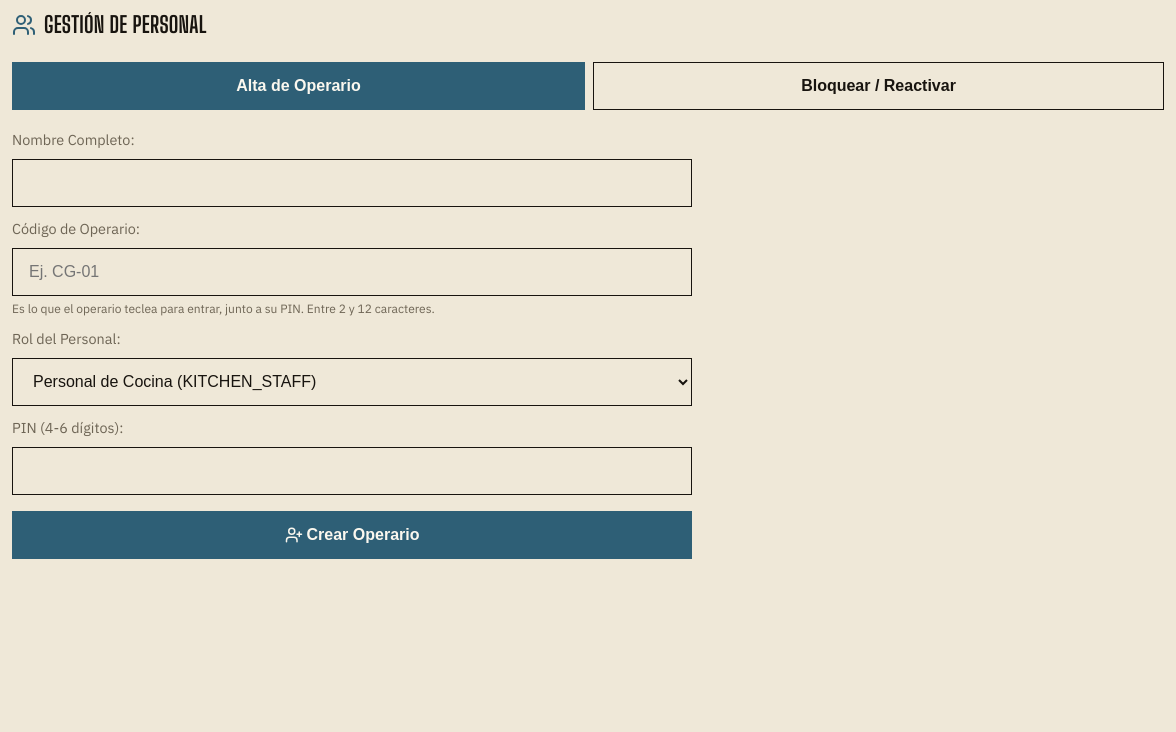
Test: TK-049-FE: UserManagementPanel Component Suite › lista los operarios reales y bloquea uno desde la pestaña Bloquear / Reactivar (TK-056)
The width and height of the screenshot is (1176, 732).
Click the button "Bloquear / Reactivar": coordinates (878, 86) [593, 62, 1164, 110]
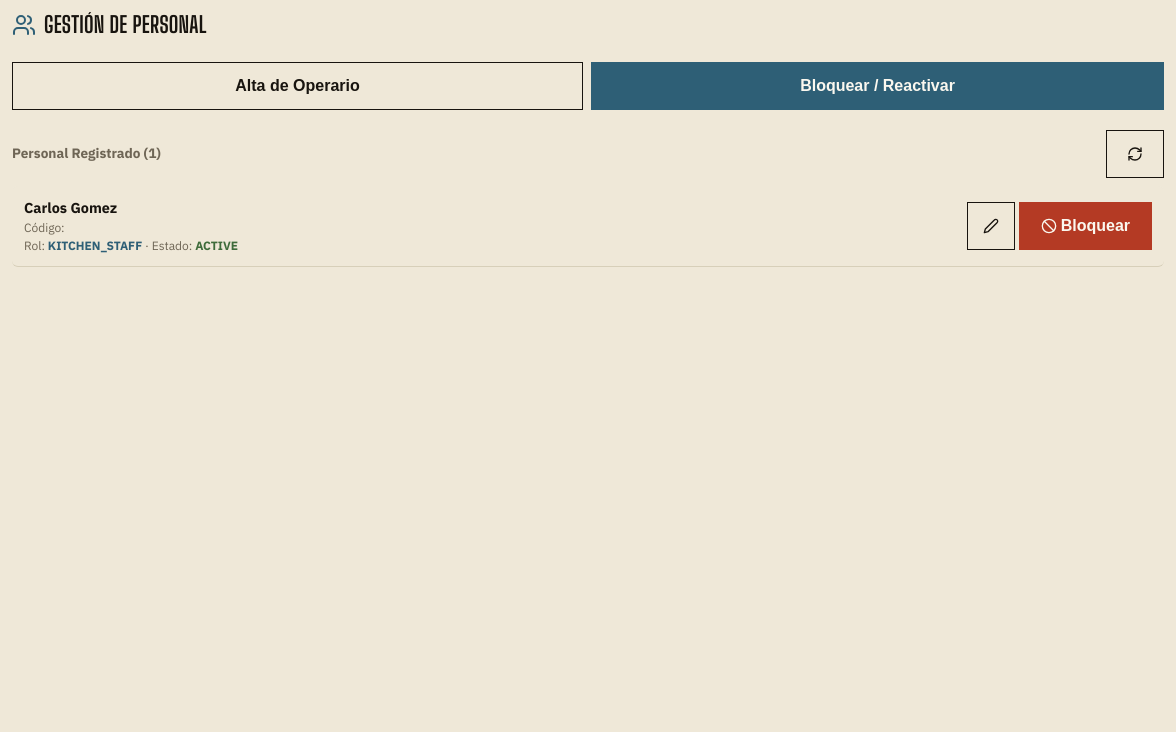
Check: the text "Carlos Gomez" is shown, box [24, 198, 117, 217]
Click the button "Bloquear": coordinates (1085, 226) [1019, 202, 1152, 250]
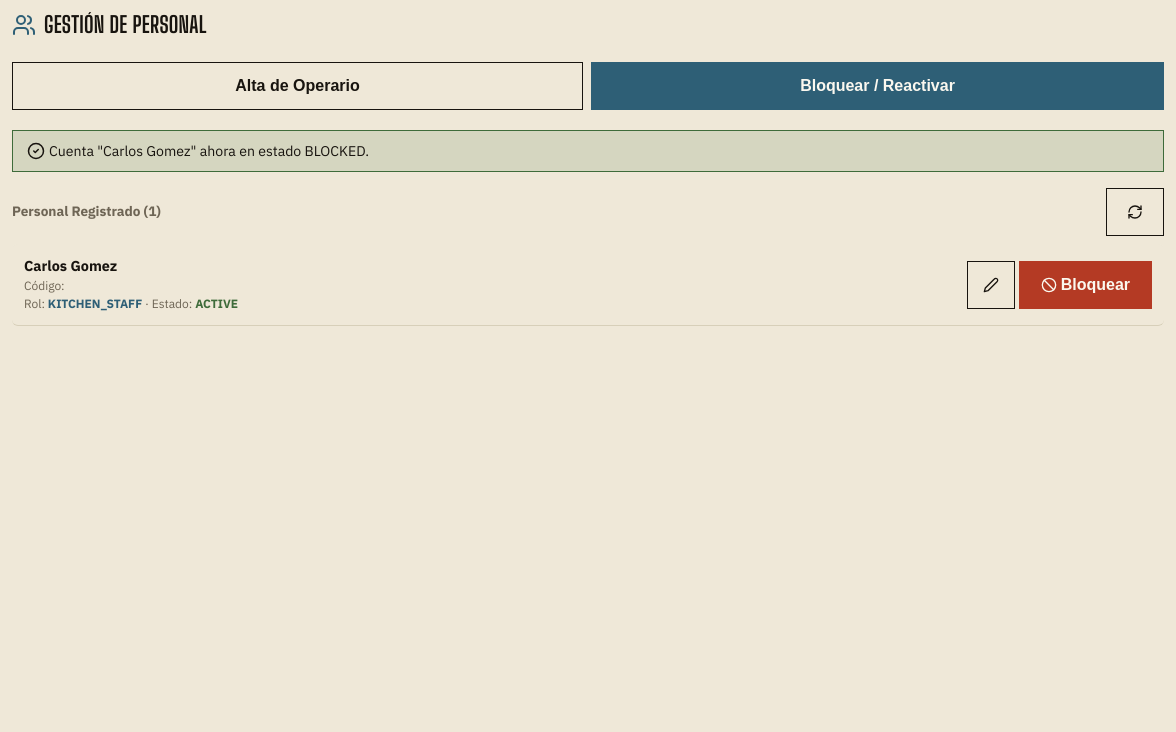
Check: the text "Cuenta \"Carlos Gomez\" ahora en estado BLOCKED." is shown, box [49, 141, 369, 161]
